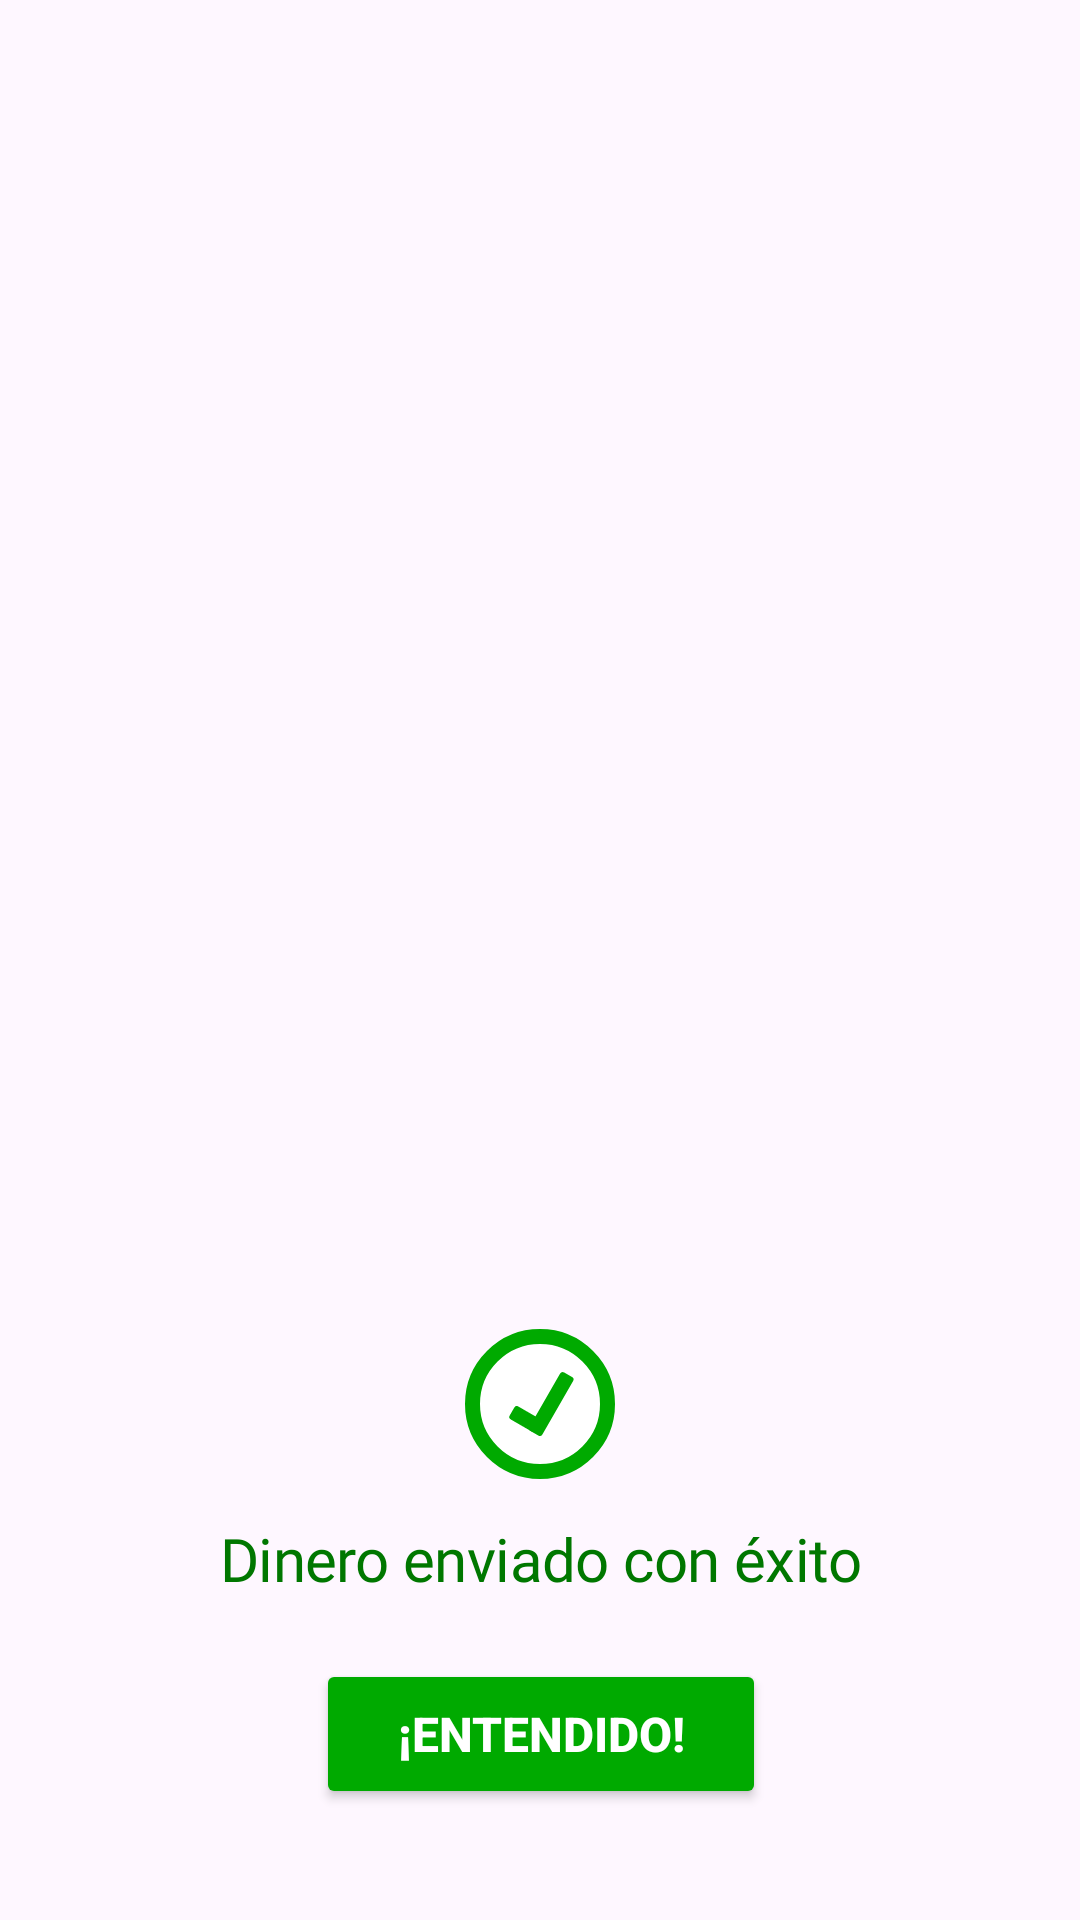

Icon click points for this 1080*1920 phone screenshot, format point (x, y):
exito: point (540, 1404)
